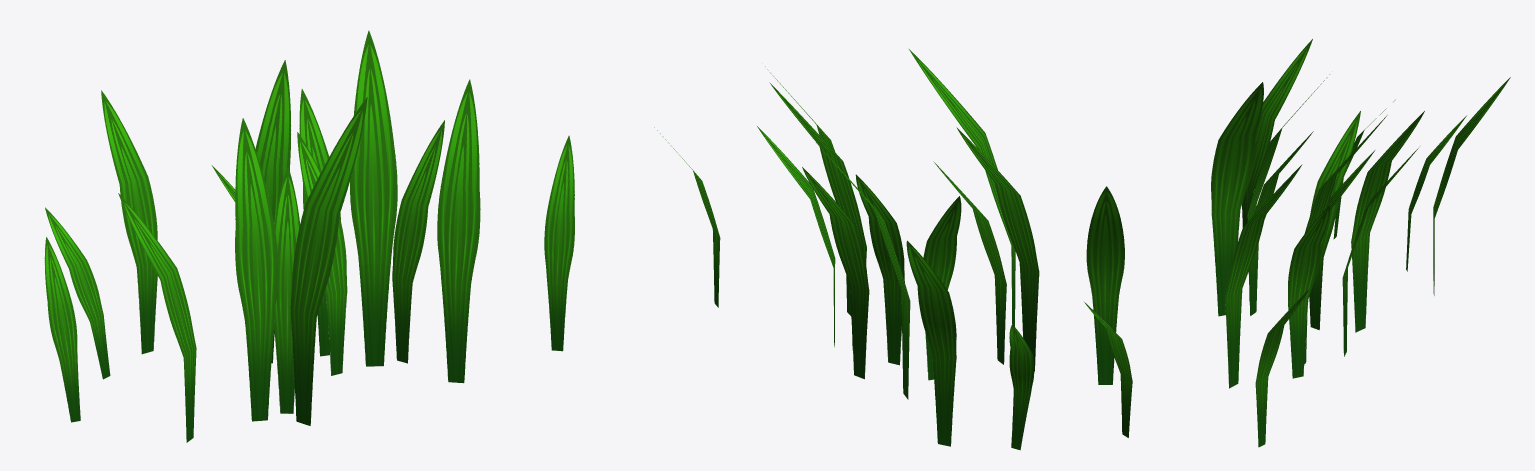
Rendered from Grass_03b.FBX.
The picture shows the model from 3 angles, left to right: view 1: azimuth 30°, elevation 25°; view 2: azimuth 150°, elevation 25°; view 3: azimuth 270°, elevation 25°; orthographic projection. The views are drawn at different scales.
Parts seen in each view (by area): view 1: Grass_03b; view 2: Grass_03b; view 3: Grass_03b.
Part boxes in pixels (x1,y1,x2,y2): Grass_03b: [44, 30, 574, 442]; Grass_03b: [654, 49, 1132, 450]; Grass_03b: [1211, 39, 1510, 447].
Bounding box in the file's own units: 19.62 × 10.87 × 11.63.
Materials: 1 (1 with a texture image).
